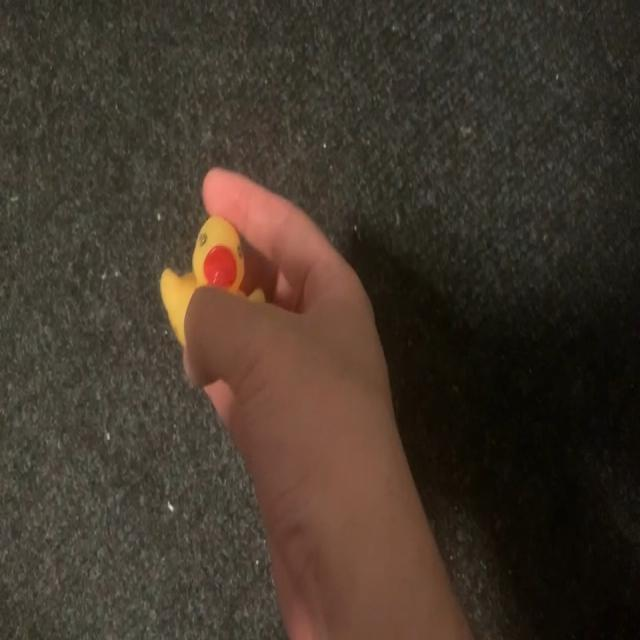rubber-duck: (159, 215, 242, 343)
